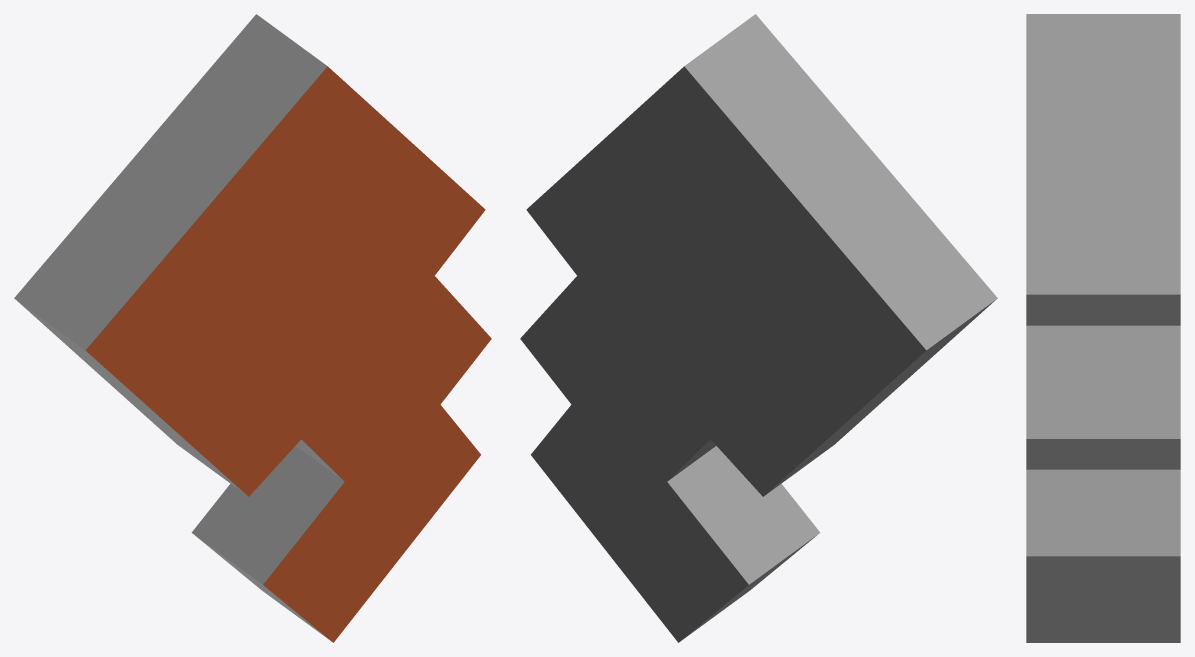
File: construction_2802_assumed_A_Casa_h6m.obj
3 renders of one model, left to right at view 1: azimuth 30°, elevation 25°; view 2: azimuth 150°, elevation 25°; view 3: azimuth 270°, elevation 25°, orthographic. The views are drawn at different scales.
Parts seen in each view (by area): view 1: construction_2802_assumed_A_Casa; view 2: construction_2802_assumed_A_Casa; view 3: construction_2802_assumed_A_Casa.
Boxes of the visible parts, x1,y1,x2,y2 form: construction_2802_assumed_A_Casa: (14,14,491,642); construction_2802_assumed_A_Casa: (520,14,997,642); construction_2802_assumed_A_Casa: (1026,14,1180,642).
Size of the model in its own units: 19.72 by 26.8 by 6.
